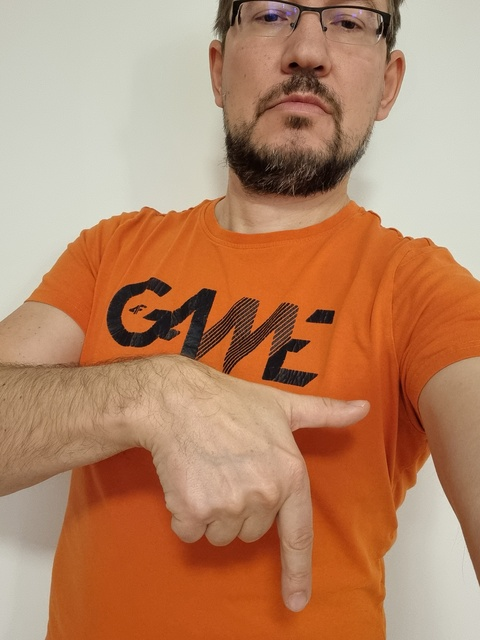GestDown: (173, 387, 371, 612)
